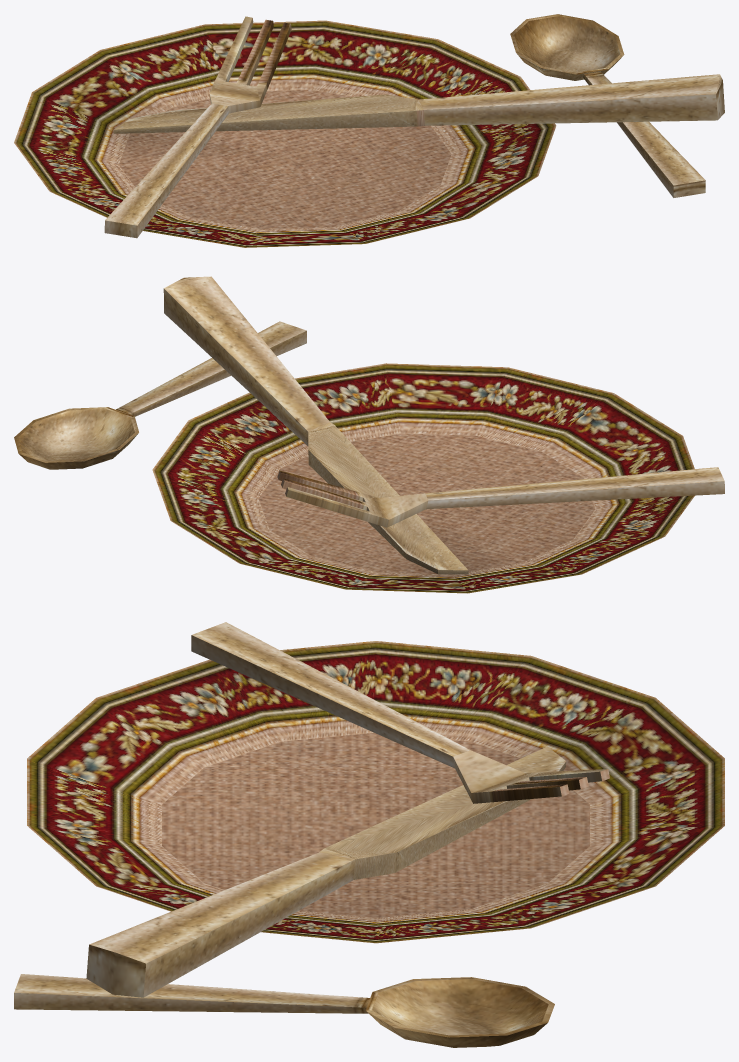
Rendered from mm9_deco_plateset2.glb.
3 renders of one model, top to bottom at view 1: azimuth 30°, elevation 25°; view 2: azimuth 150°, elevation 25°; view 3: azimuth 270°, elevation 25°, orthographic. The views are drawn at different scales.
Visible parts, largest first — view 1: Plateset2; view 2: Plateset2; view 3: Plateset2.
Boxes of the visible parts, <box> form: Plateset2: <box>14,14,724,247</box>; Plateset2: <box>14,276,724,593</box>; Plateset2: <box>14,622,724,1047</box>.
Size of the model in its own units: 0.6323 by 0.072 by 0.4942.
Materials: 2 (2 with a texture image).
